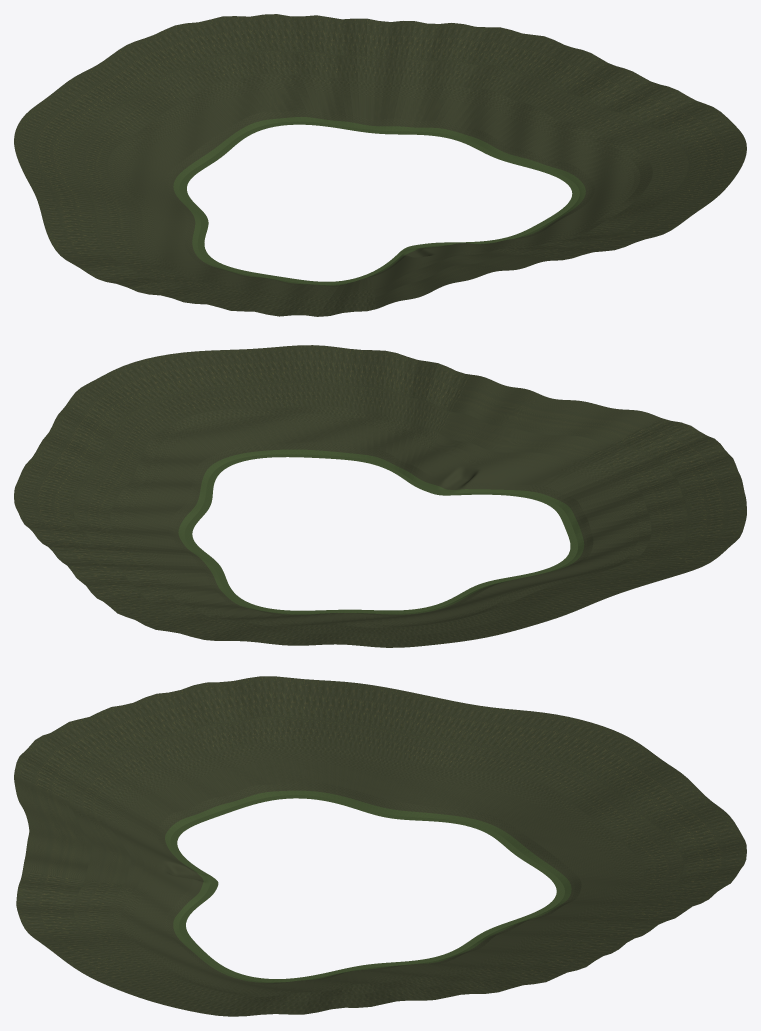
Rendered from lake_bank.glb.
3 views of the same model, one above another, from view 1: azimuth 30°, elevation 25°; view 2: azimuth 150°, elevation 25°; view 3: azimuth 270°, elevation 25° (orthographic). The views are drawn at different scales.
Visible parts, largest first — view 1: lake_bank0, lake_bank1; view 2: lake_bank0, lake_bank1; view 3: lake_bank0, lake_bank1.
Part boxes in pixels (x1,y1,x2,y2): lake_bank0: [14, 35, 746, 316]; lake_bank1: [154, 14, 677, 166]; lake_bank0: [58, 345, 746, 647]; lake_bank1: [14, 414, 279, 639]; lake_bank0: [14, 676, 741, 1016]; lake_bank1: [331, 835, 746, 1009].
Bounding box in the file's own units: 484 × 28.68 × 443.
Materials: 1 (1 with a texture image).
